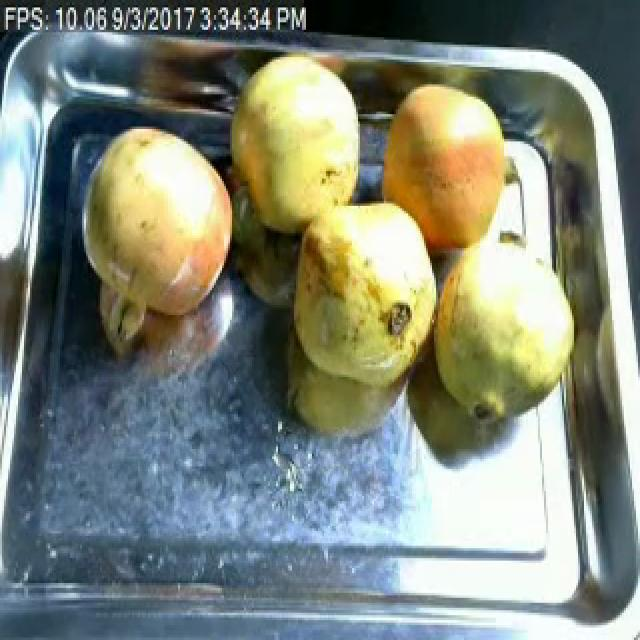fruit: (76, 109, 242, 340), (426, 216, 582, 439), (284, 186, 446, 399), (218, 47, 376, 248), (368, 72, 528, 268)
